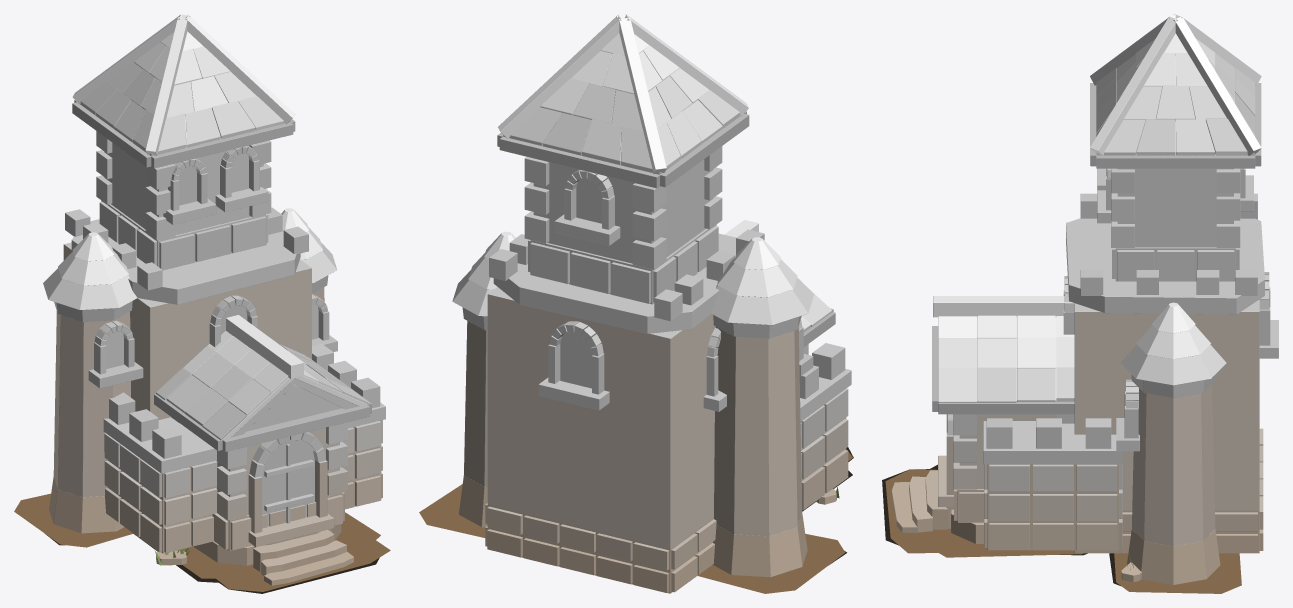
Rendered from city.fbx.
3 renders of one model, left to right at view 1: azimuth 30°, elevation 25°; view 2: azimuth 150°, elevation 25°; view 3: azimuth 270°, elevation 25°, orthographic. The views are drawn at different scales.
Visible parts, largest first — view 1: city.008; view 2: city.008; view 3: city.008.
Part boxes in pixels (x1,y1,x2,y2): city.008: (14,14,390,593); city.008: (419,14,853,593); city.008: (882,14,1278,593).
Bounding box in the file's own units: 2.05 × 2.82 × 2.05.
